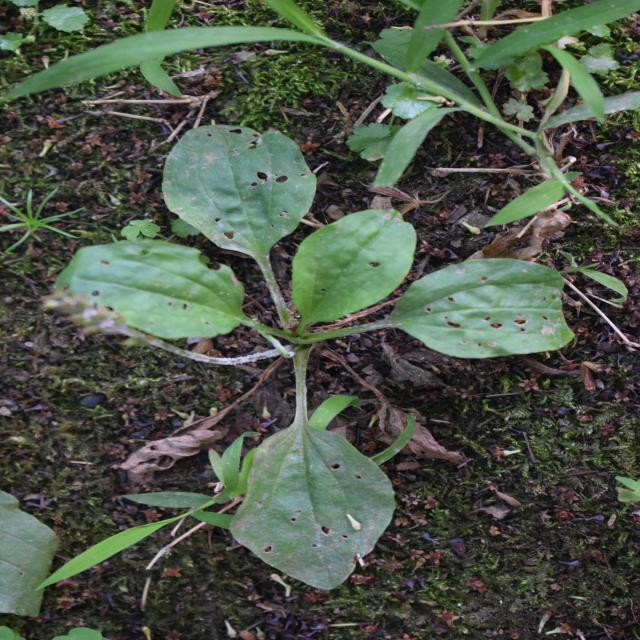plantain: (90, 69, 520, 497)
